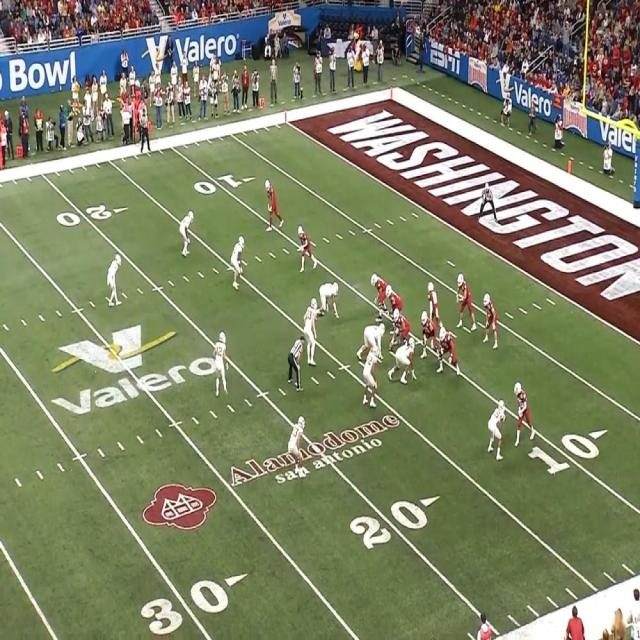center: (389, 309, 408, 351)
db: (288, 412, 309, 469), (211, 330, 230, 389), (486, 401, 504, 454), (104, 255, 121, 307), (179, 210, 193, 256)
lb: (302, 295, 320, 365), (229, 236, 247, 282), (364, 346, 378, 404)
qb: (456, 276, 476, 336)
skill: (514, 377, 534, 443), (264, 178, 283, 228), (298, 221, 316, 272), (482, 292, 497, 340), (429, 283, 442, 313)
